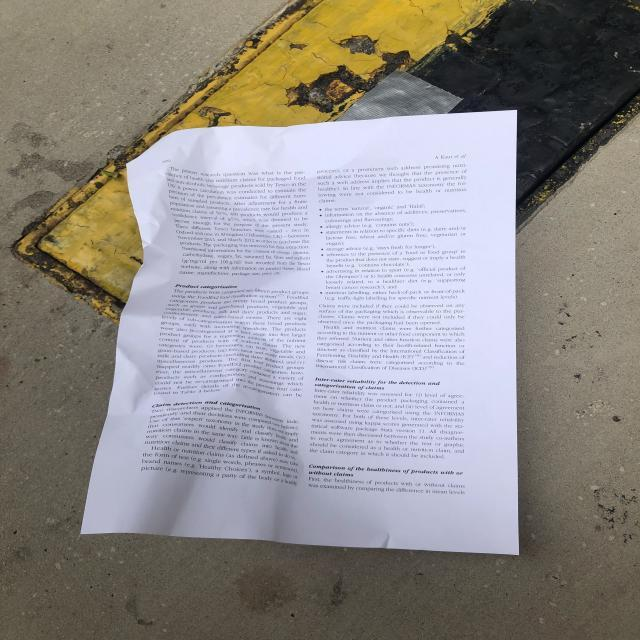document: (82, 111, 518, 554)
